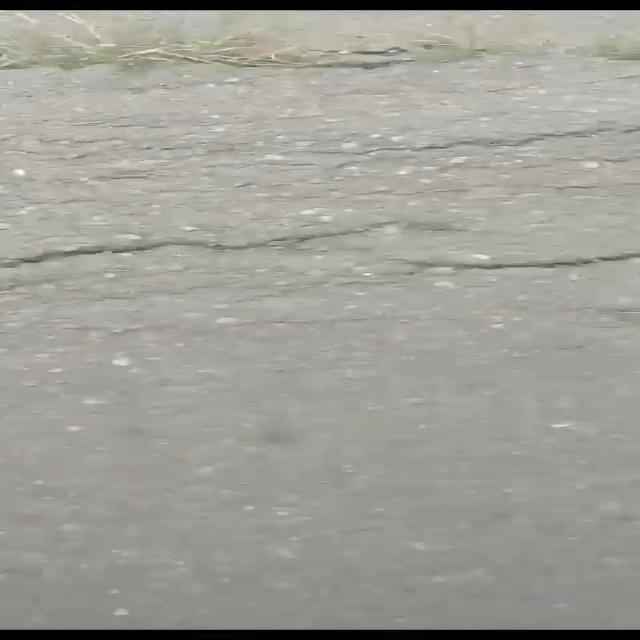Melintang: (0, 210, 402, 284), (410, 240, 640, 290)
